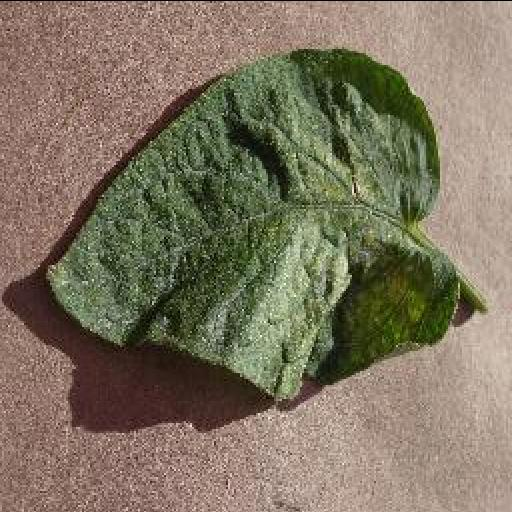disease_tomato: (47, 42, 461, 404)
